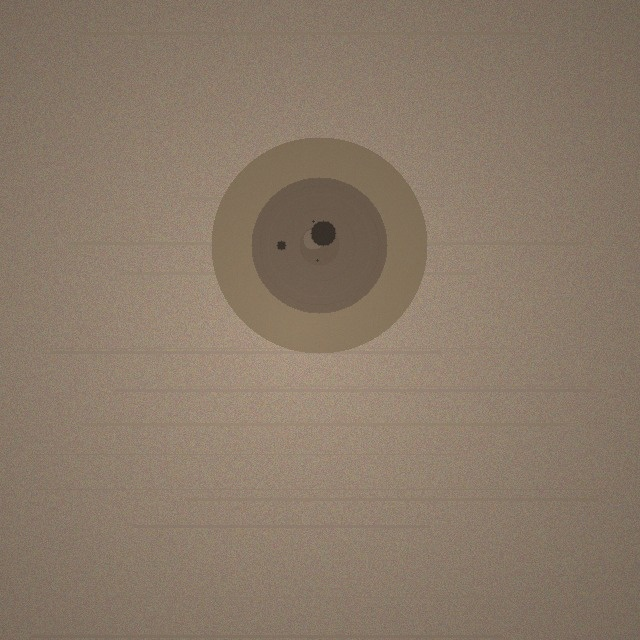shrinkage: (211, 137, 427, 353)
